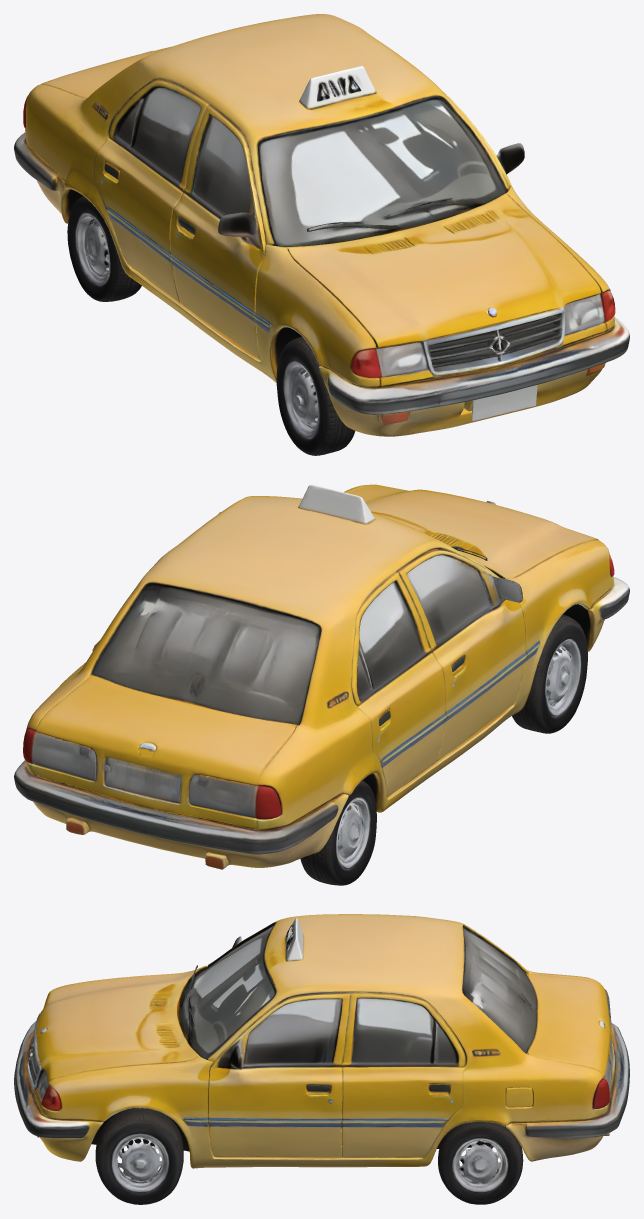
Rendered from ketch.glb.
The picture shows the model from 3 angles, top to bottom: view 1: azimuth 30°, elevation 25°; view 2: azimuth 150°, elevation 25°; view 3: azimuth 270°, elevation 25°; orthographic projection. The views are drawn at different scales.
Visible parts, largest first — view 1: model; view 2: model; view 3: model.
Part boxes in pixels (left/top/right/bottom): model: left=14, top=14, right=629, bottom=455; model: left=14, top=484, right=629, bottom=885; model: left=14, top=914, right=629, bottom=1204.
Size of the model in its own units: 0.8873 by 0.7722 by 1.9.
Materials: 1 (1 with a texture image).
